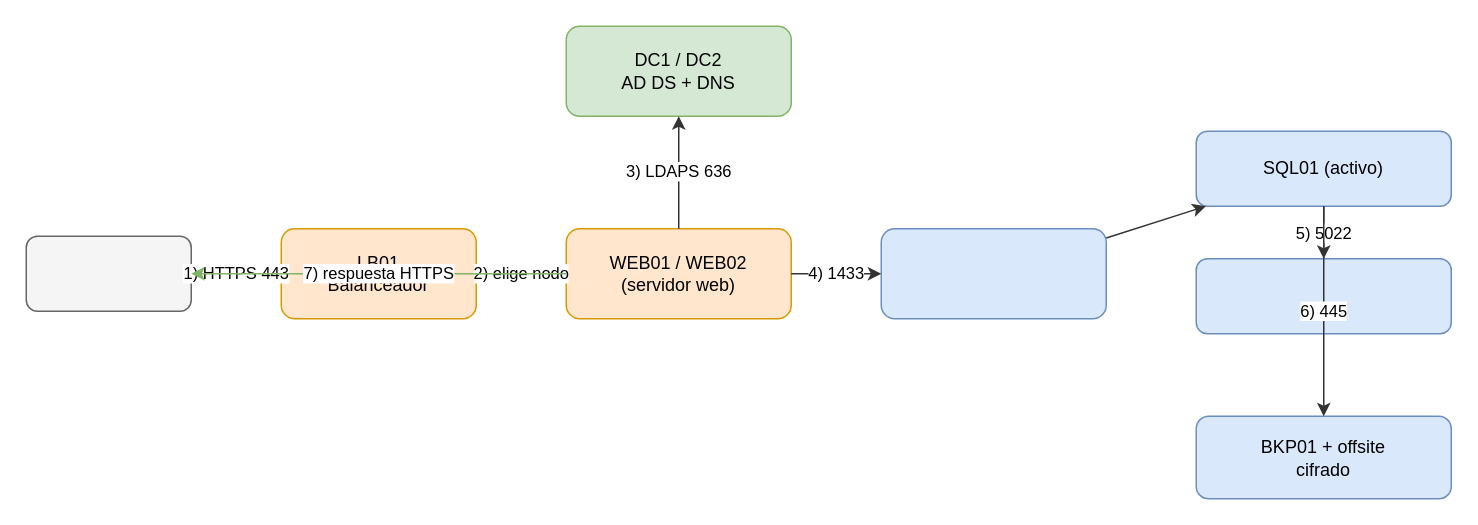
The diagram is 1478 pixels wide and 525 high, and some of its shapes have lost their labels. The centre of each missing label's shape, as x and y in pixels:
Listener SQL 10.10.10.20: pixel 993 273
SQL02 (replica): pixel 1323 295
Usuario: pixel 108 273
